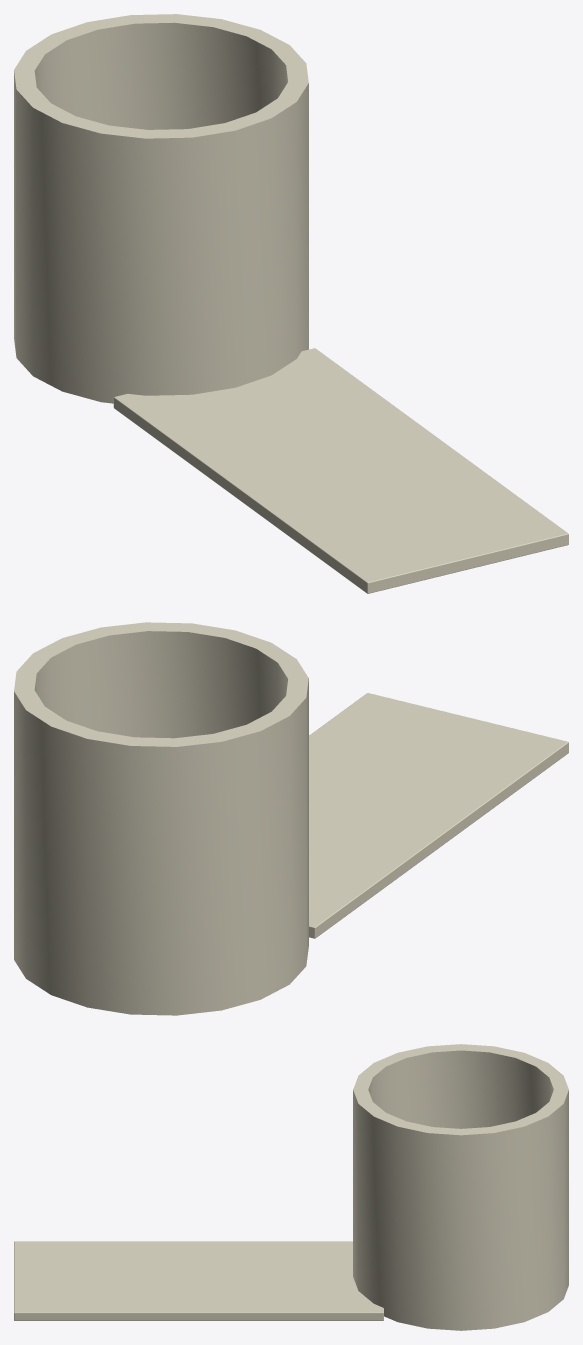
File: field-medicine-and-recovery-bandage-roll-f0dda4fa__3037.glb
3 renders of one model, top to bottom at view 1: azimuth 30°, elevation 25°; view 2: azimuth 150°, elevation 25°; view 3: azimuth 270°, elevation 25°, orthographic. The views are drawn at different scales.
Parts seen in each view (by area): view 1: bandage-roll; view 2: bandage-roll; view 3: bandage-roll.
Part boxes in pixels (left/top/right/bottom): bandage-roll: left=14, top=14, right=568, bottom=593; bandage-roll: left=14, top=622, right=568, bottom=1015; bandage-roll: left=14, top=1044, right=568, bottom=1330.
Bounding box in the file's own units: 0.07 × 0.07 × 0.18.
